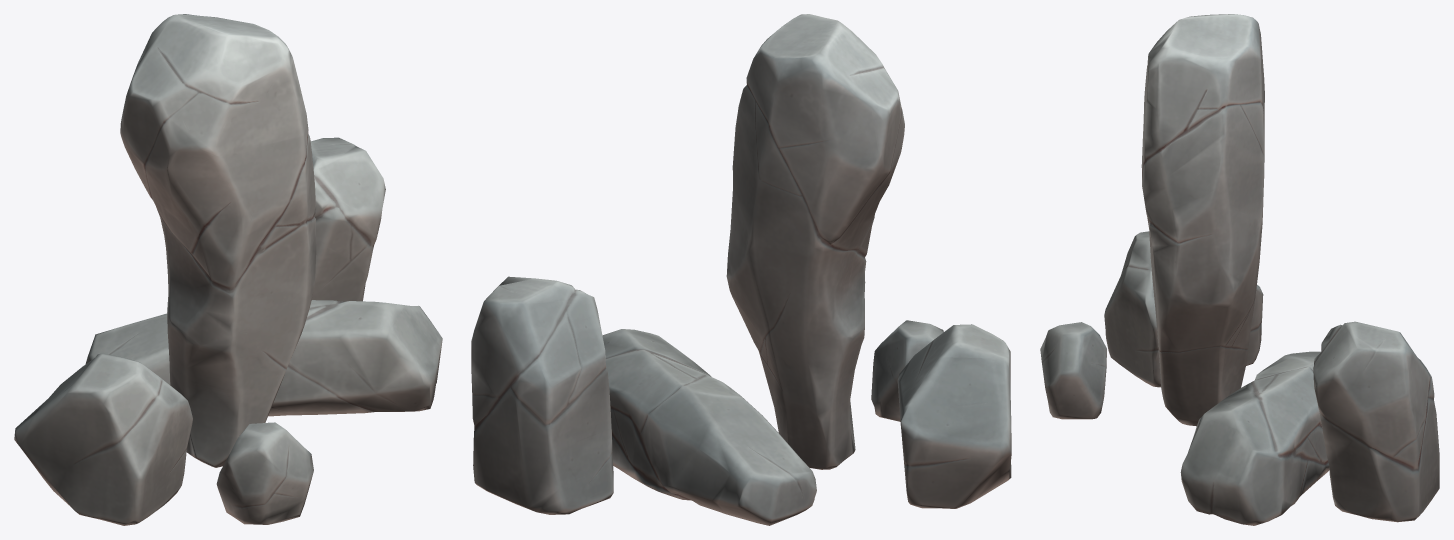
Rendered from magicRock.obj.
The picture shows the model from 3 angles, left to right: view 1: azimuth 30°, elevation 25°; view 2: azimuth 150°, elevation 25°; view 3: azimuth 270°, elevation 25°; orthographic projection. The views are drawn at different scales.
Parts seen in each view (by area): view 1: StylRocksMagic_1_LOD0_Mesh; view 2: StylRocksMagic_1_LOD0_Mesh; view 3: StylRocksMagic_1_LOD0_Mesh.
Boxes of the visible parts, x1,y1,x2,y2 form: StylRocksMagic_1_LOD0_Mesh: (14,14,442,525); StylRocksMagic_1_LOD0_Mesh: (471,14,1011,525); StylRocksMagic_1_LOD0_Mesh: (1040,14,1439,525).
Bounding box in the file's own units: 23.72 × 22.27 × 20.24.
1 material, 1 textured.
